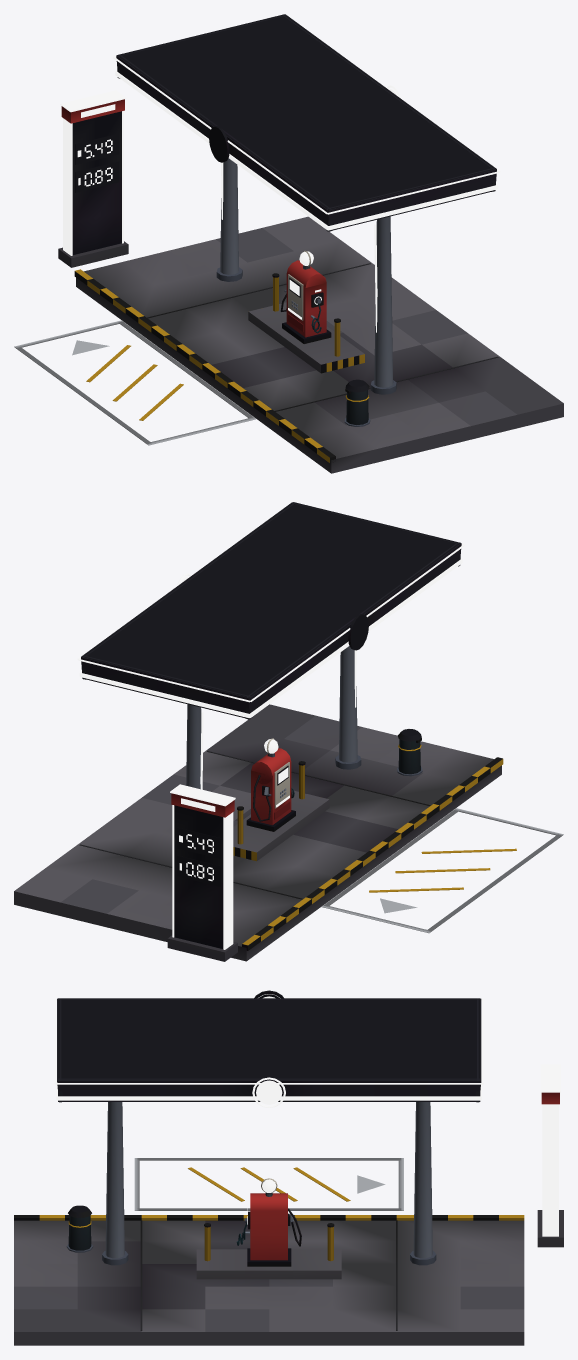
The model's file is posto.glb.
3 renders of one model, top to bottom at view 1: azimuth 30°, elevation 25°; view 2: azimuth 150°, elevation 25°; view 3: azimuth 270°, elevation 25°, orthographic.
Parts seen in each view (by area): view 1: posto_solido, posto_neon, posto_luz; view 2: posto_solido, posto_neon, posto_luz; view 3: posto_solido, posto_neon, posto_luz.
Part boxes in pixels (x1=…): posto_solido: x1=14, y1=14, x2=563, y2=473; posto_neon: x1=60, y1=14, x2=500, y2=332; posto_luz: x1=77, y1=89, x2=397, y2=304; posto_solido: x1=14, y1=502, x2=563, y2=961; posto_neon: x1=77, y1=502, x2=464, y2=949; posto_luz: x1=179, y1=576, x2=288, y2=881; posto_solido: x1=14, y1=990, x2=563, y2=1345; posto_neon: x1=54, y1=994, x2=560, y2=1236; posto_luz: x1=247, y1=996, x2=560, y2=1224.
Size of the model in its own units: 9.31 by 6.24 by 12.5.
